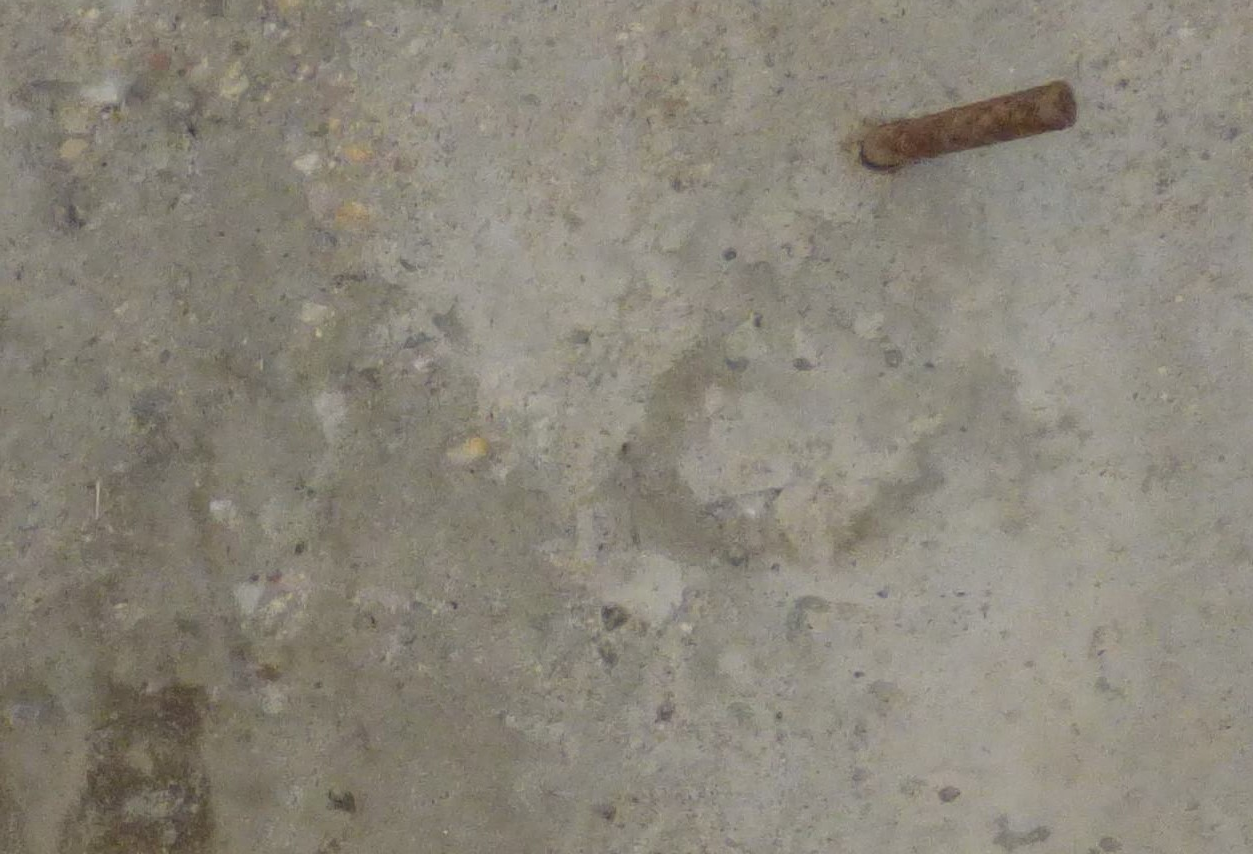Exposed reinforcement: (862, 80, 1077, 168)
